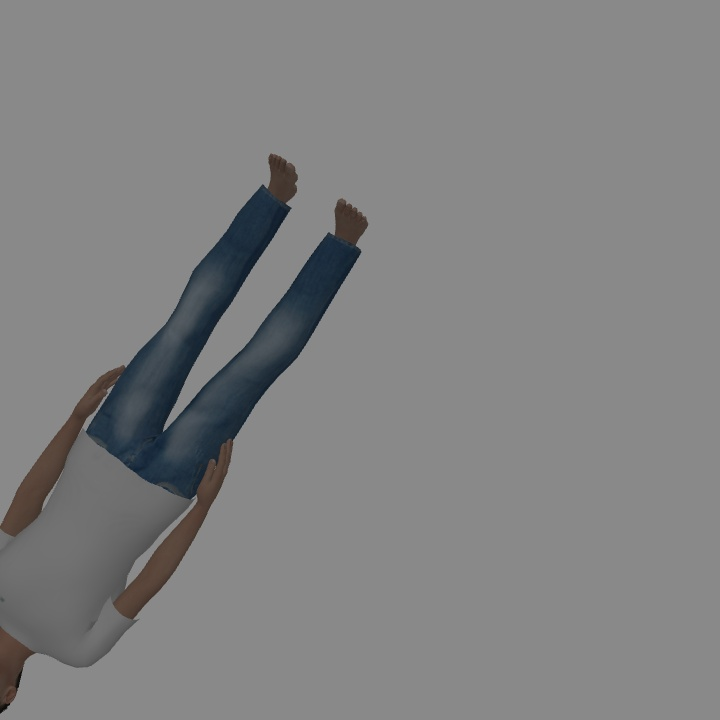victim: (1, 153, 368, 711)
